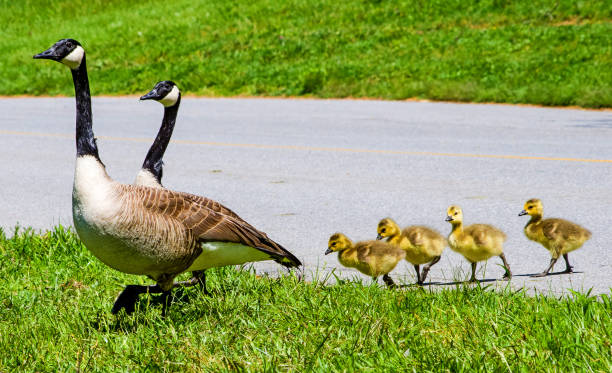goose: (29, 36, 305, 320), (136, 77, 183, 194)
